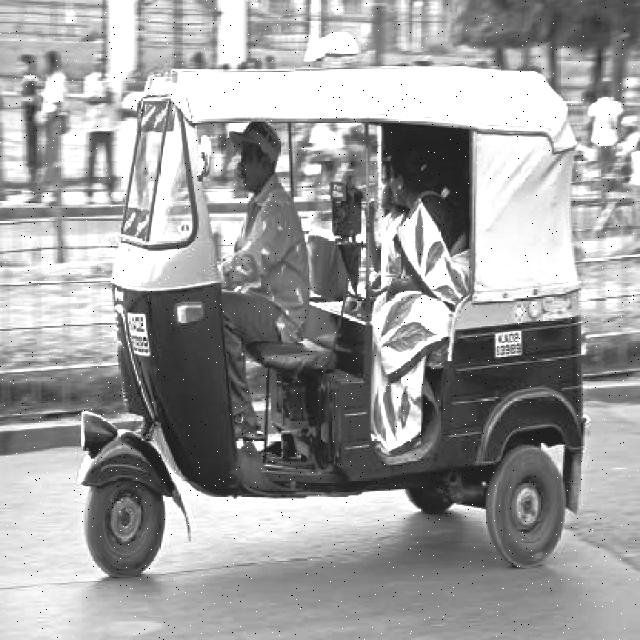Auto-Rickshaw: (78, 69, 590, 581)
